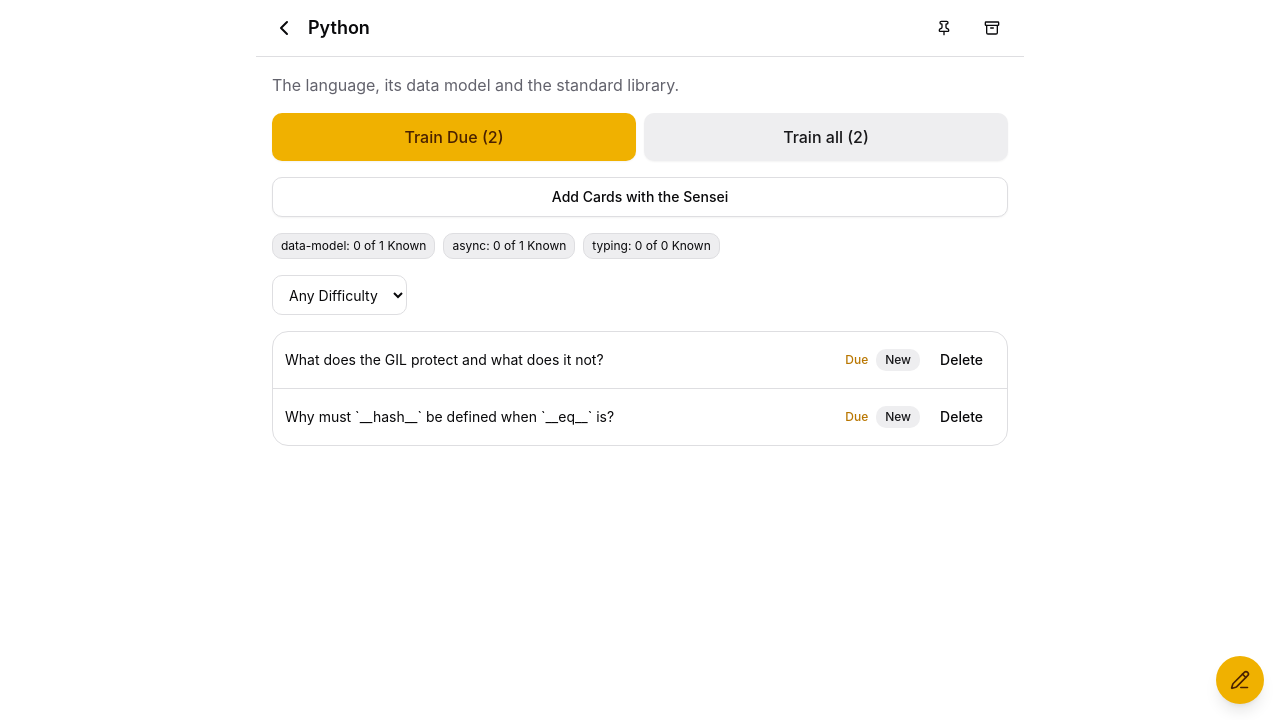
Test: Kata screen › pins and unpins from the header and sends only that flag
The image size is (1280, 720).
Click the button named "Pin" at (944, 28), box [924,8,964,48]
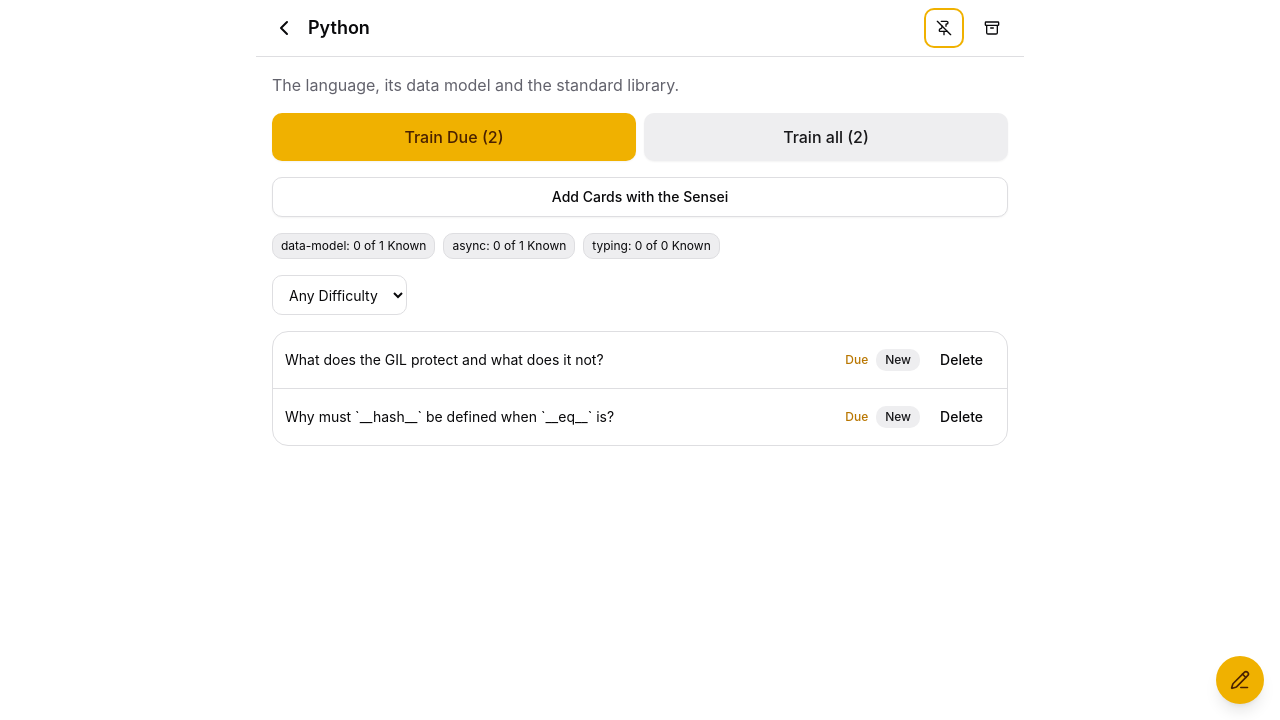
Check: the button named "Unpin" is shown, box [924,8,964,48]
